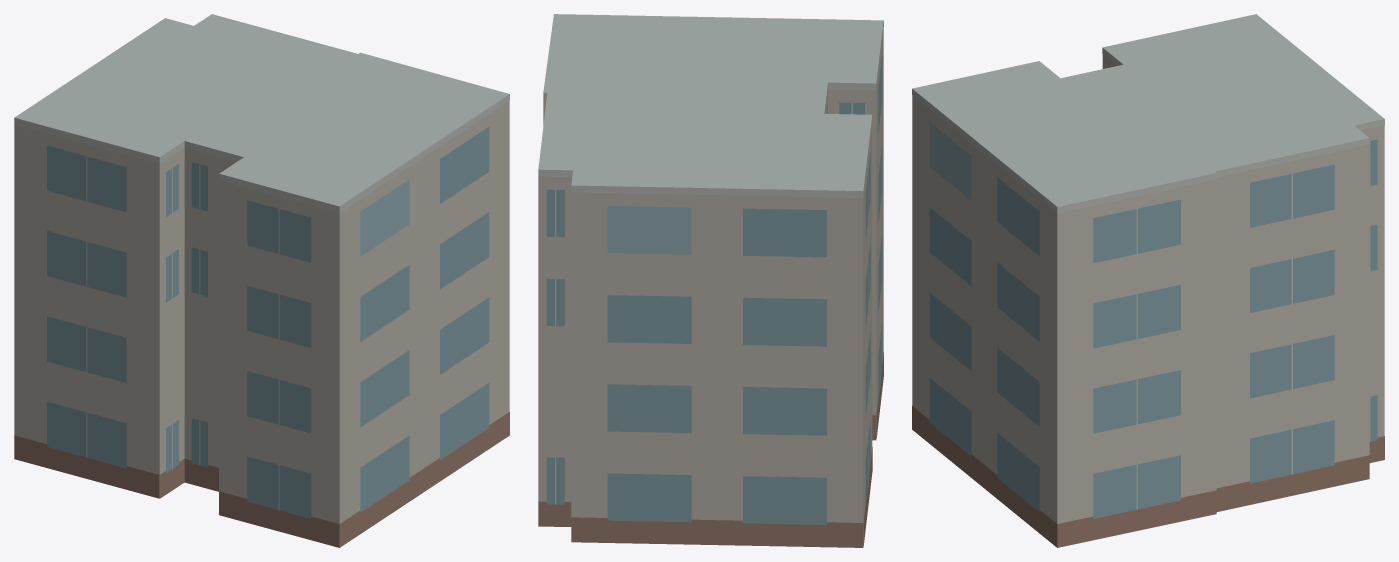
File: survey-upis-32727445.glb
3 views of the same model, side by side, from view 1: azimuth 30°, elevation 25°; view 2: azimuth 150°, elevation 25°; view 3: azimuth 270°, elevation 25° (orthographic). The views are drawn at different scales.
Visible parts, largest first — view 1: survey-upis-32727445.tmp; view 2: survey-upis-32727445.tmp; view 3: survey-upis-32727445.tmp.
Part boxes in pixels (x1,y1,x2,y2): survey-upis-32727445.tmp: (14, 14, 509, 547); survey-upis-32727445.tmp: (538, 14, 883, 547); survey-upis-32727445.tmp: (912, 14, 1384, 547).
Bounding box in the file's own units: 15.75 × 12.98 × 16.31.
